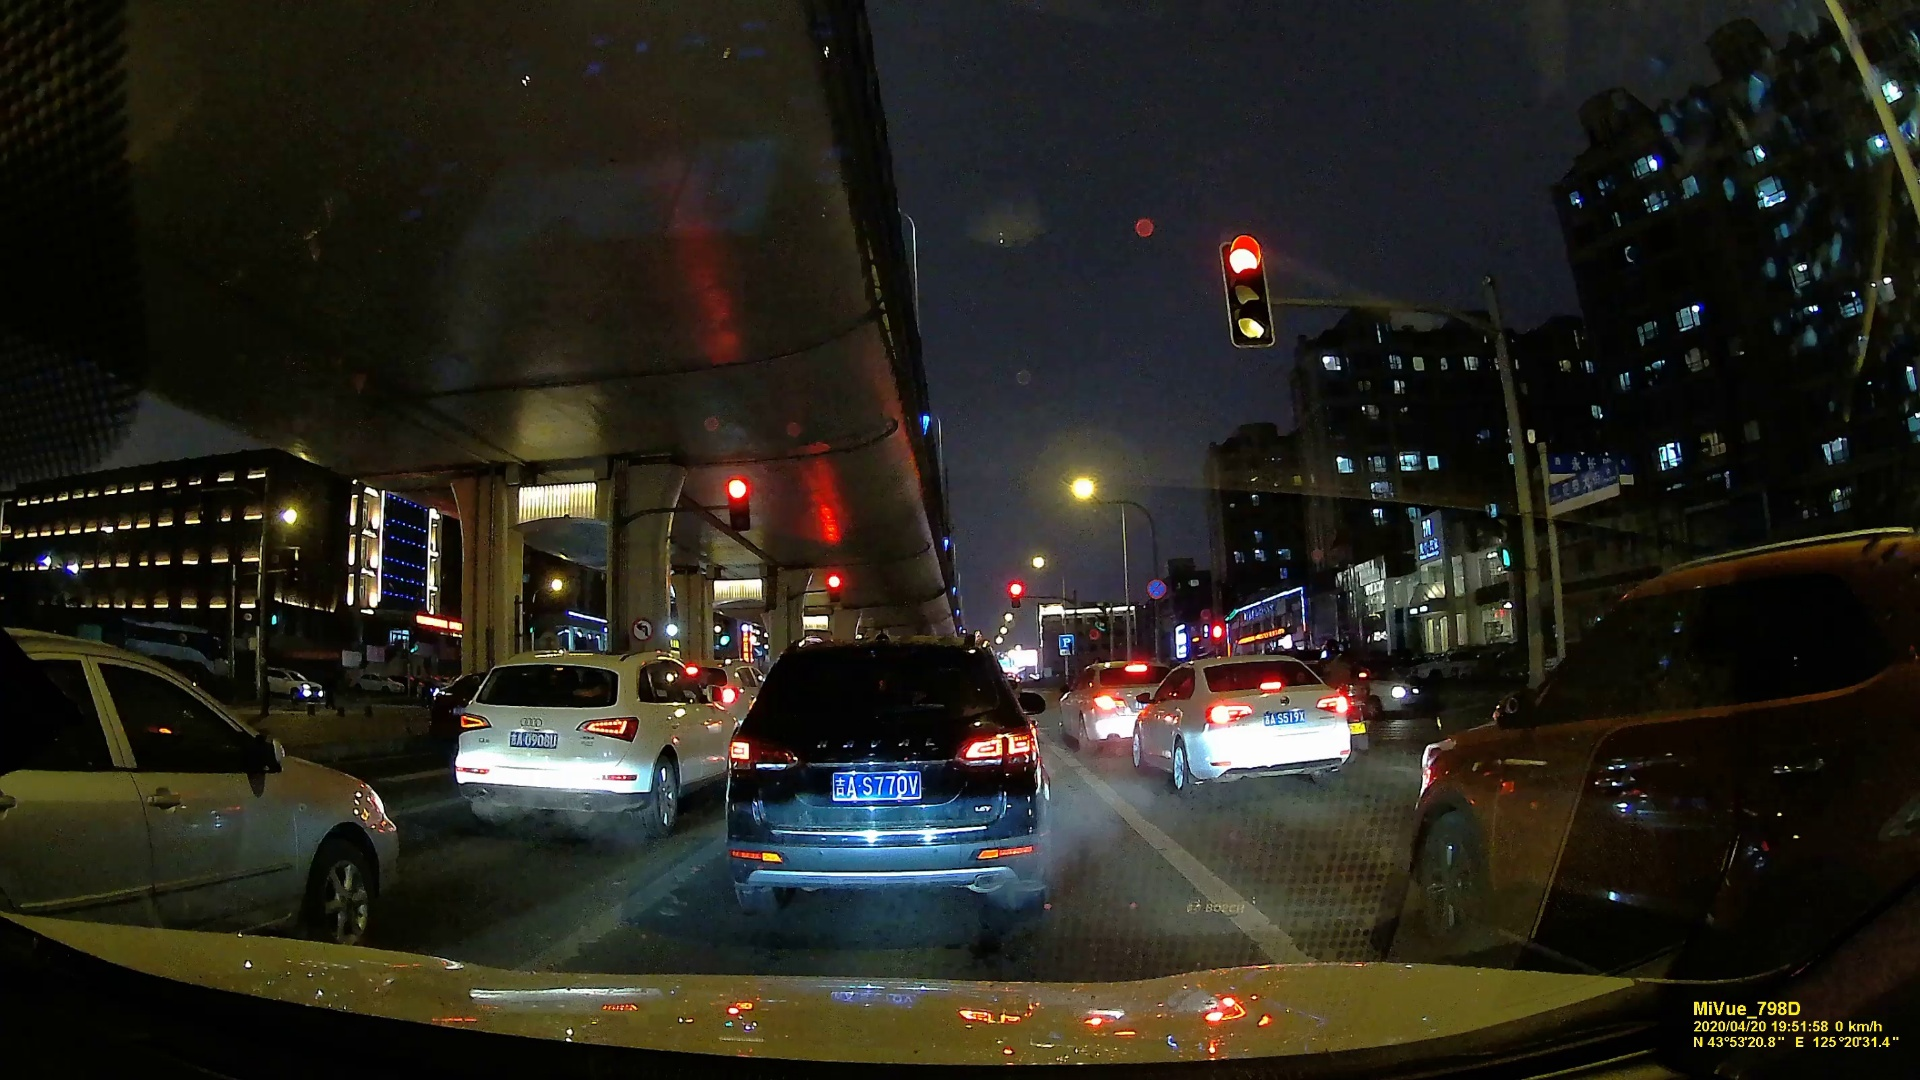traffic_sign: (1222, 240, 1270, 349), (1538, 467, 1625, 506), (1482, 495, 1522, 571), (723, 473, 748, 525), (1145, 578, 1168, 604), (825, 574, 843, 601), (632, 618, 654, 640), (1007, 582, 1025, 608), (1058, 634, 1075, 655)
vehicle: (1418, 531, 1913, 945), (3, 632, 404, 952), (728, 632, 1048, 926), (446, 651, 732, 837), (1134, 651, 1352, 790), (1062, 669, 1151, 750)
